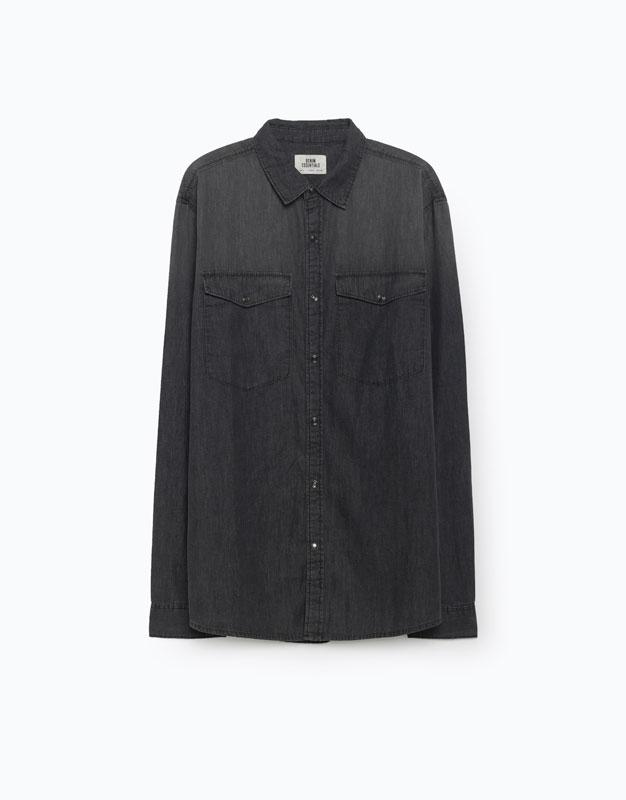teeshirt: (145, 116, 498, 658)
